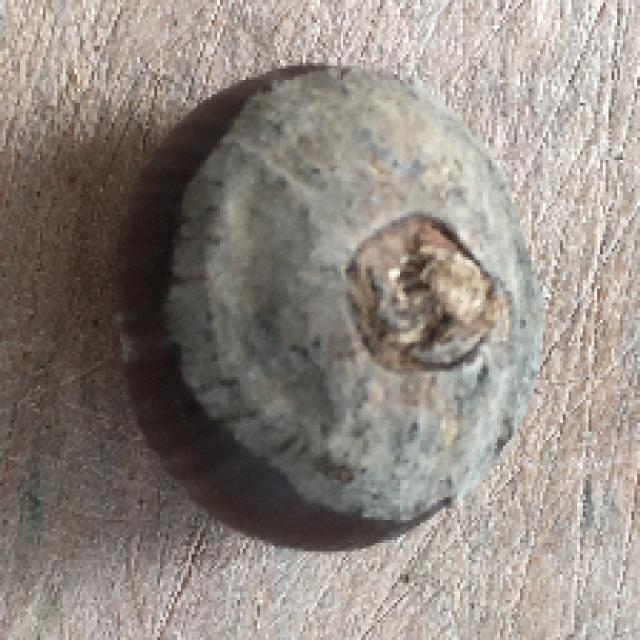damagedHazelnut: (107, 54, 554, 555)
